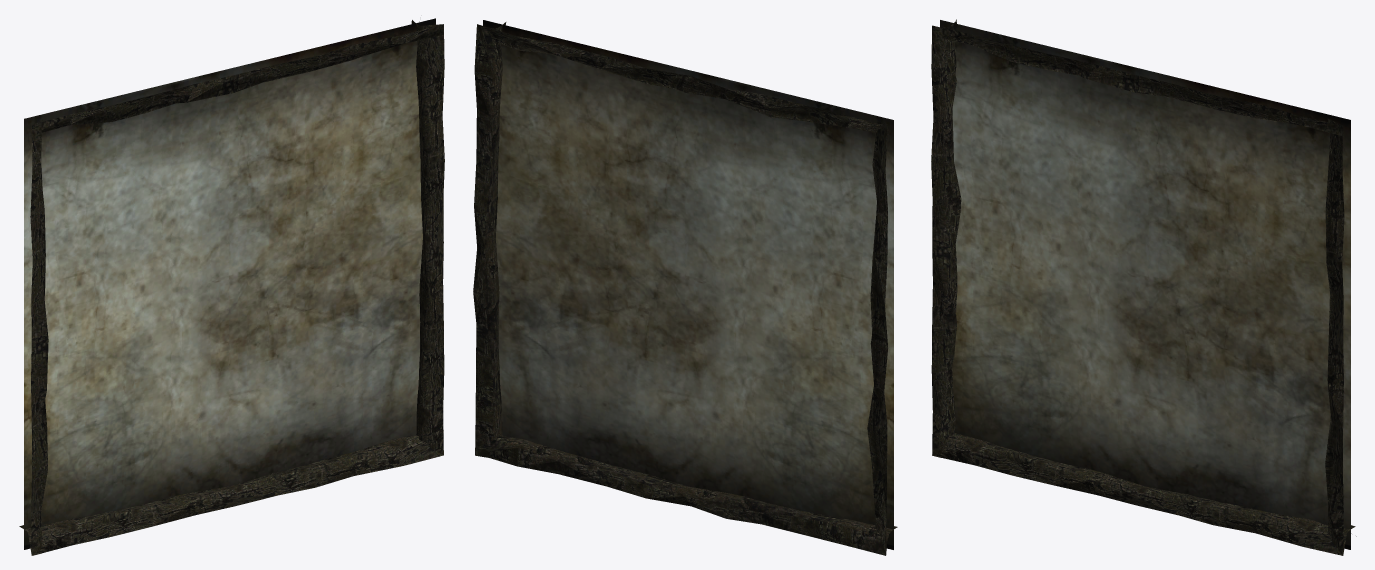
File: default_extension.dae
3 views of the same model, side by side, from view 1: azimuth 30°, elevation 25°; view 2: azimuth 150°, elevation 25°; view 3: azimuth 330°, elevation 25° (orthographic).
Visible parts, largest first — view 1: pPlane1, polySurface14; view 2: pPlane1, polySurface14; view 3: pPlane1, polySurface14.
Boxes of the visible parts, box(x1,y1,x2,y2) form: pPlane1: box(24, 18, 435, 549); polySurface14: box(19, 20, 444, 555); pPlane1: box(483, 20, 893, 549); polySurface14: box(473, 22, 897, 555); pPlane1: box(940, 20, 1350, 549); polySurface14: box(931, 19, 1356, 555).
Bounding box in the file's own units: 4 × 4 × 0.328.
